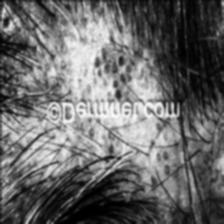Unclassified: (98, 52, 136, 94), (212, 160, 224, 210), (158, 147, 172, 173)
